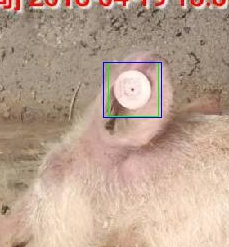text: (108, 62, 158, 116)
